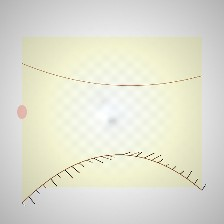pinguecula_lesion: (158, 94, 204, 130)
